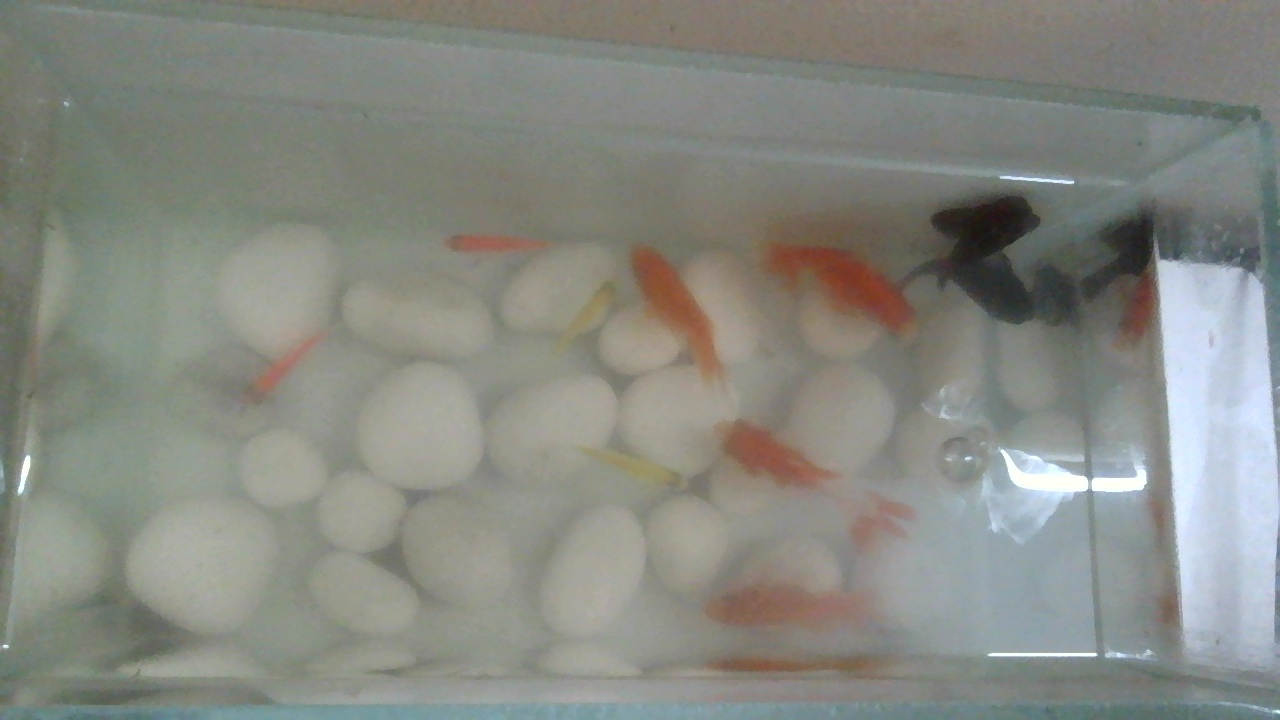fish: (761, 238, 921, 361)
